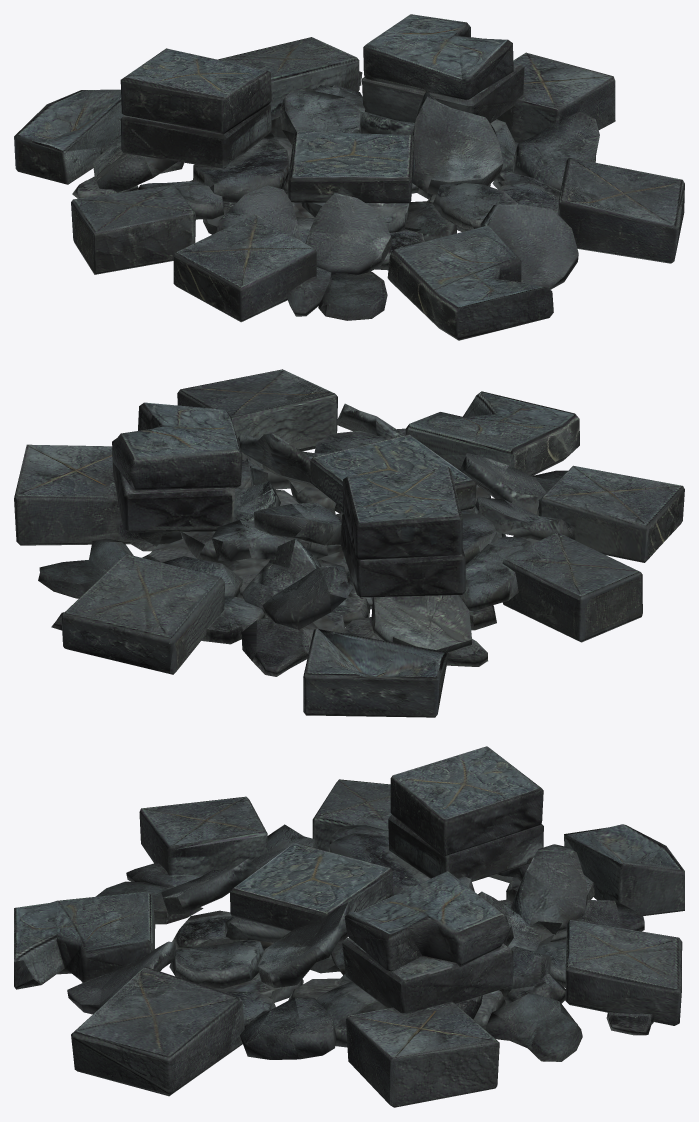
The model's file is rubble.glb.
The picture shows the model from 3 angles, top to bottom: view 1: azimuth 30°, elevation 25°; view 2: azimuth 150°, elevation 25°; view 3: azimuth 270°, elevation 25°; orthographic projection. The views are drawn at different scales.
Size of the model in its own units: 1 by 0.2319 by 1.
1 material, 1 textured.
